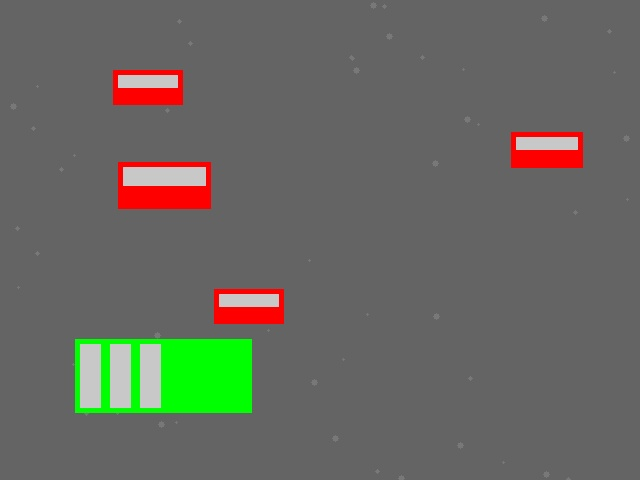bus: (75, 339, 251, 412)
car: (118, 162, 210, 208), (511, 132, 582, 167), (113, 70, 182, 104), (214, 289, 283, 323)
